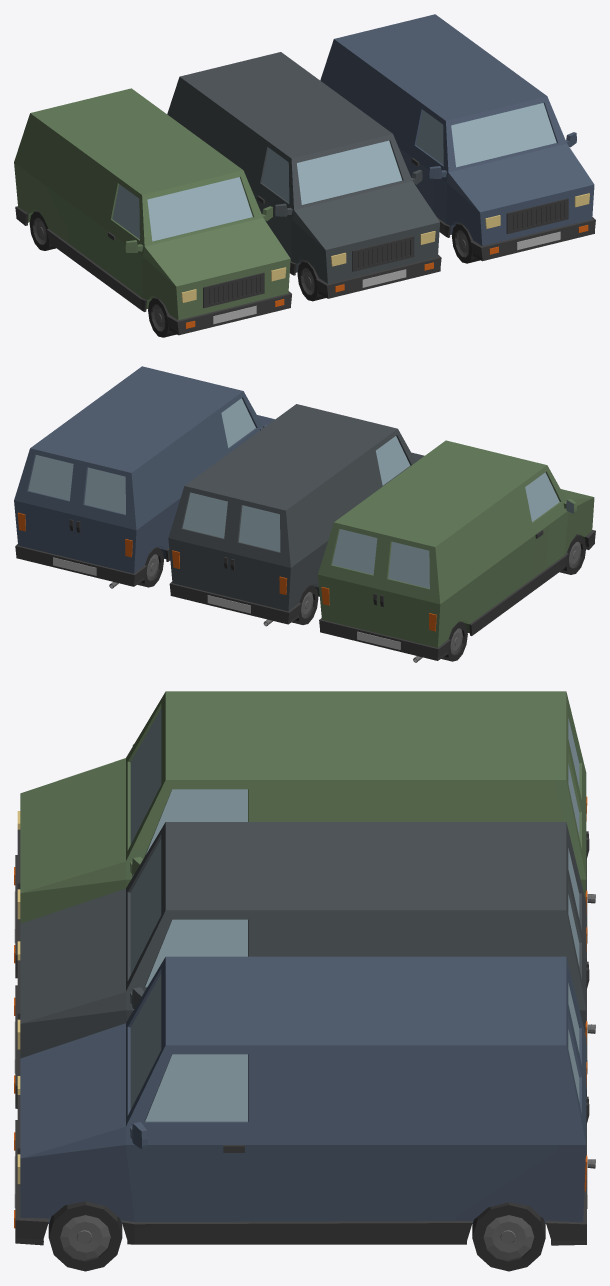
The model's file is car_5.fbx.
3 views of the same model, one above another, from view 1: azimuth 30°, elevation 25°; view 2: azimuth 150°, elevation 25°; view 3: azimuth 270°, elevation 25° (orthographic). The views are drawn at different scales.
Visible parts, largest first — view 1: 5.0, 5.2, 5.1; view 2: 5.0, 5.2, 5.1; view 3: 5.2, 5.1, 5.0.
Boxes of the visible parts, x1=… form: 5.0: x1=14, y1=88, x2=291, y2=337; 5.2: x1=320, y1=14, x2=595, y2=263; 5.1: x1=167, y1=52, x2=441, y2=301; 5.0: x1=317, y1=440, x2=595, y2=662; 5.2: x1=14, y1=366, x2=274, y2=588; 5.1: x1=168, y1=404, x2=424, y2=626; 5.2: x1=14, y1=956, x2=595, y2=1271; 5.1: x1=14, y1=822, x2=595, y2=1108; 5.0: x1=14, y1=691, x2=595, y2=978.
Size of the model in its own units: 705 by 185 by 441.
Materials: 1 (1 with a texture image).
